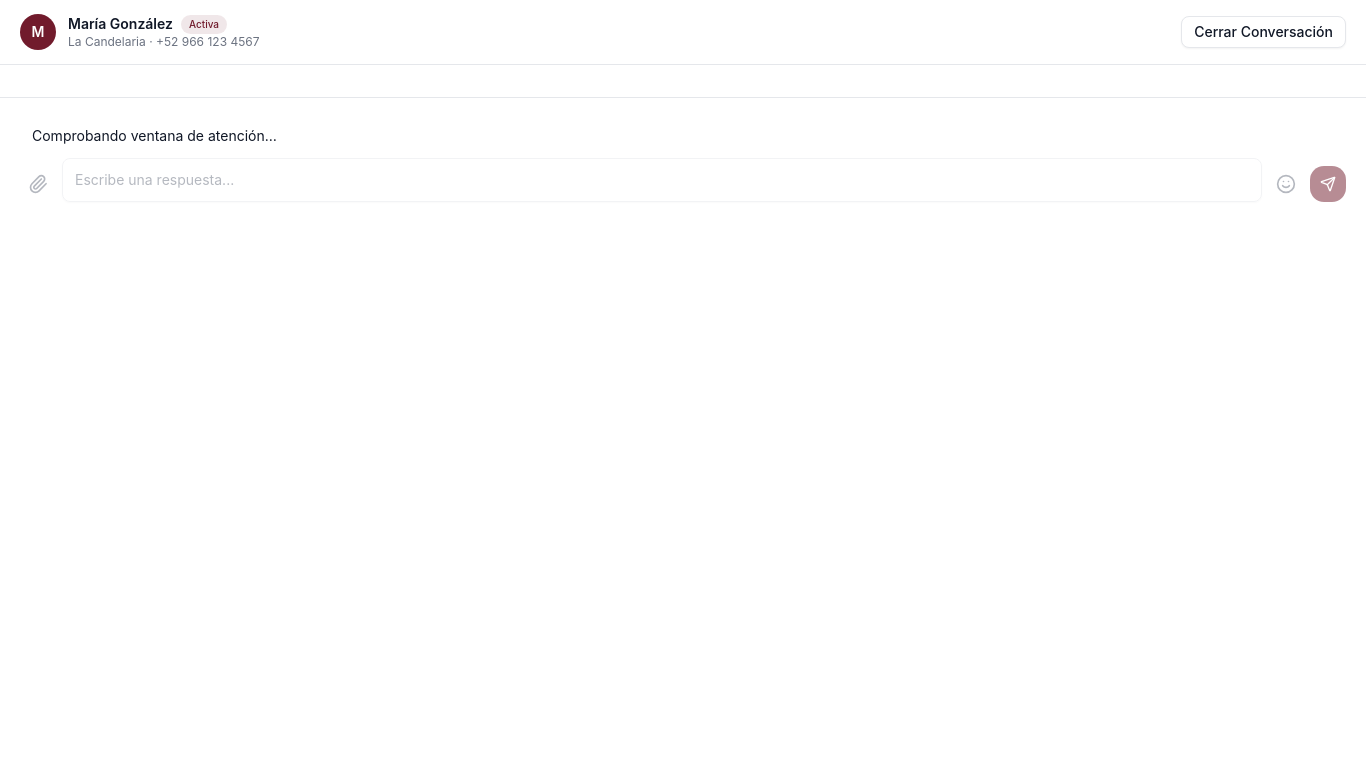
Scenario: ChatWindow — Cerrar Conversación › pide confirmación al hacer clic
Click the button "Cerrar Conversación": [1264, 32] box [1181,16,1346,48]
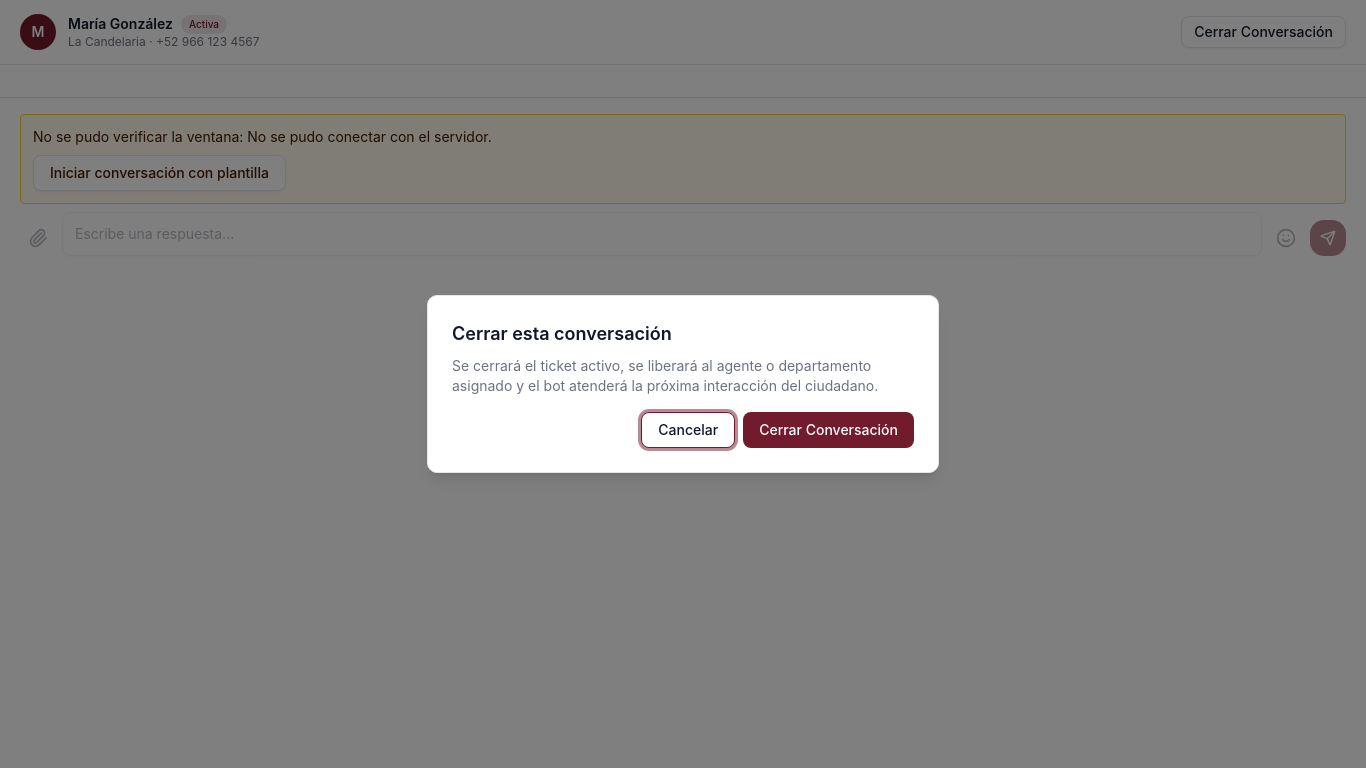
Now the heading "Cerrar esta conversación" is shown, box [452,323,672,344]
